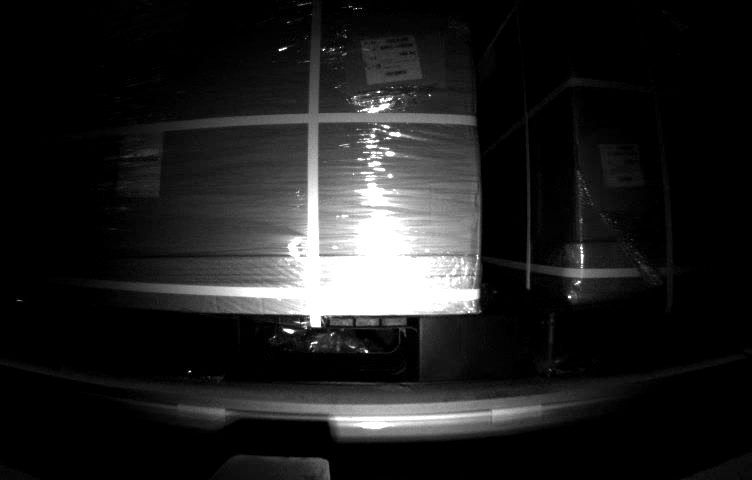True Barcode: (358, 37, 426, 86), (596, 144, 648, 187)
